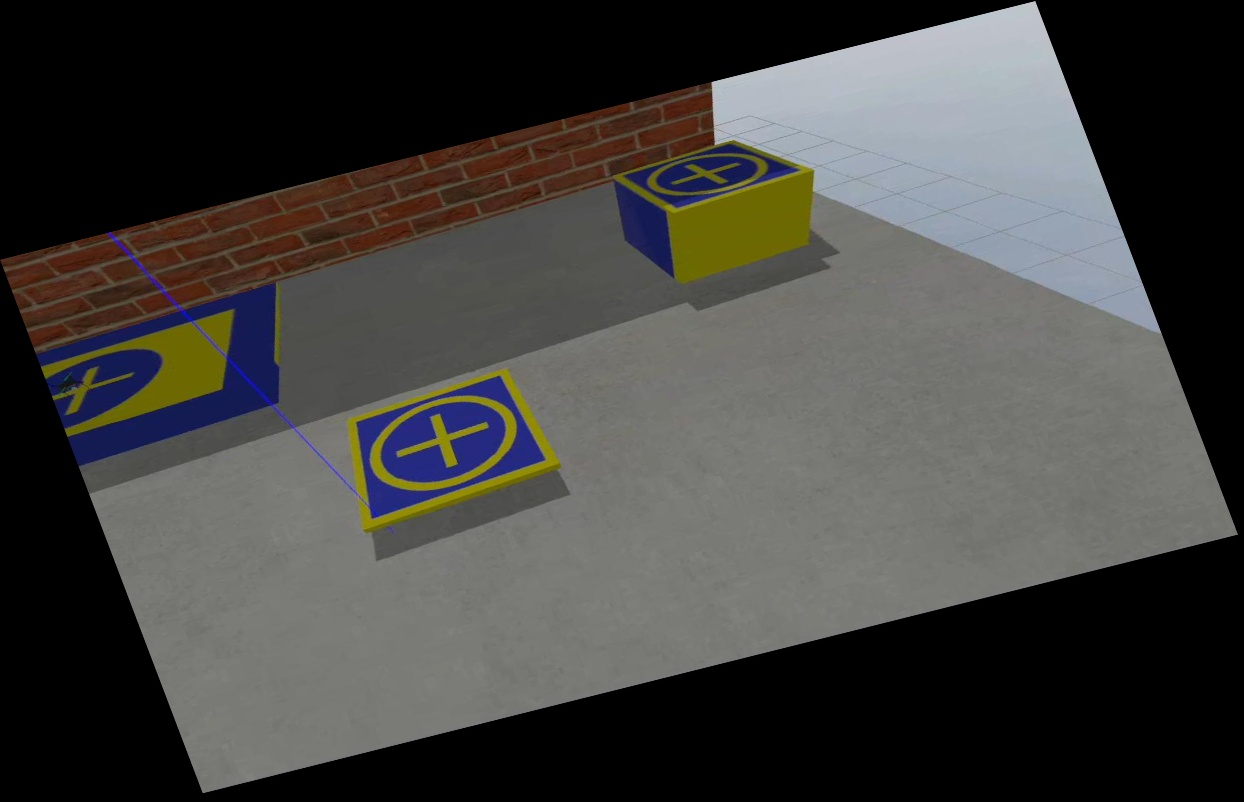large_base: (30, 277, 324, 460)
small_base: (326, 364, 567, 531), (611, 127, 818, 225)
